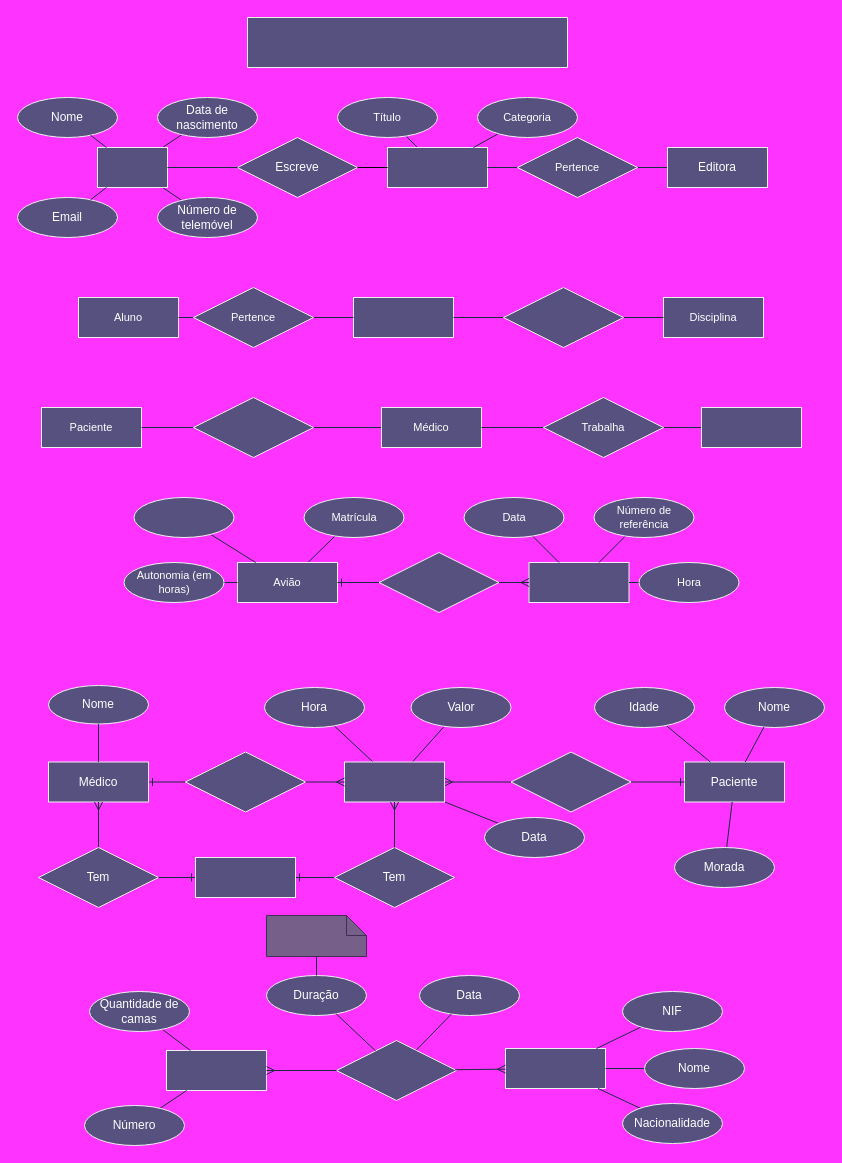
The diagram is 842 pixels wide and 1163 high, and some of its shapes have lost their labels. Each missing label, with the centre of its shape:
"Aprende" belongs at pixel 563 317.
"Aula 1" belongs at pixel 407 42.
"Autor" belongs at pixel 132 167.
"Cliente" belongs at pixel 555 1068.
"Consulta" belongs at pixel 394 781.
"Departamento" belongs at pixel 751 427.
"Em noites" belongs at pixel 316 935.
"Especialidade" belongs at pixel 245 877.
"Faz" belongs at pixel 245 781.
"Livro" belongs at pixel 437 167.
"Marca" belongs at pixel 183 517.
"Performa" belongs at pixel 438 582.
"Quarto" belongs at pixel 216 1070.
"Reserva" belongs at pixel 396 1070.
"Trata" belongs at pixel 253 427.
"Turma" belongs at pixel 403 317.
"Vai" belongs at pixel 570 781.
"Vôo" belongs at pixel 578 582.
